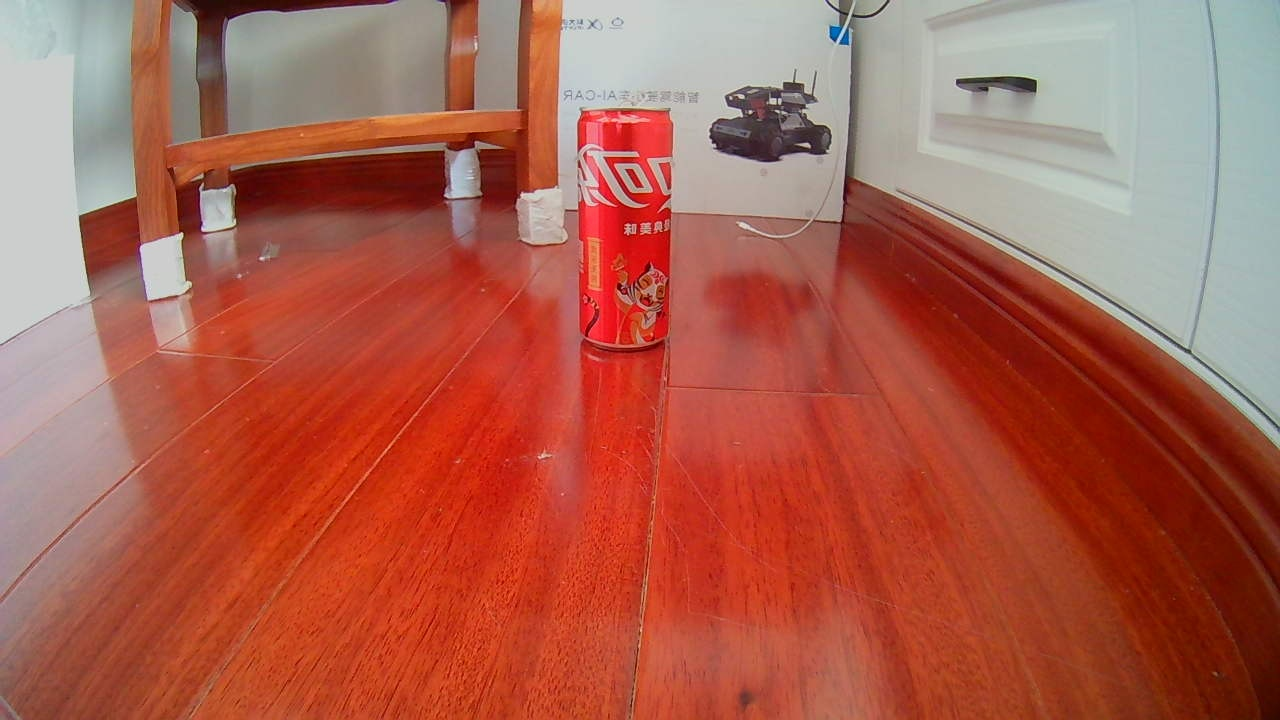cola: (573, 112, 671, 345)
